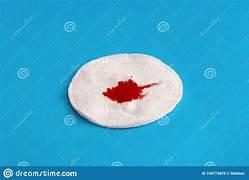cotton: (68, 54, 182, 127)
